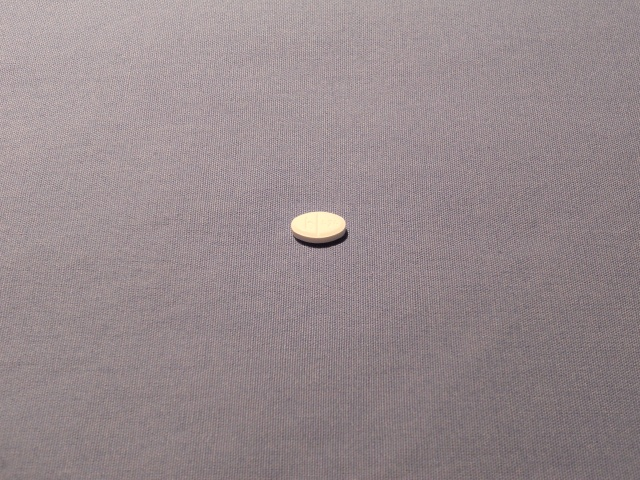b: (303, 215, 315, 233)
|: (315, 213, 321, 235)
